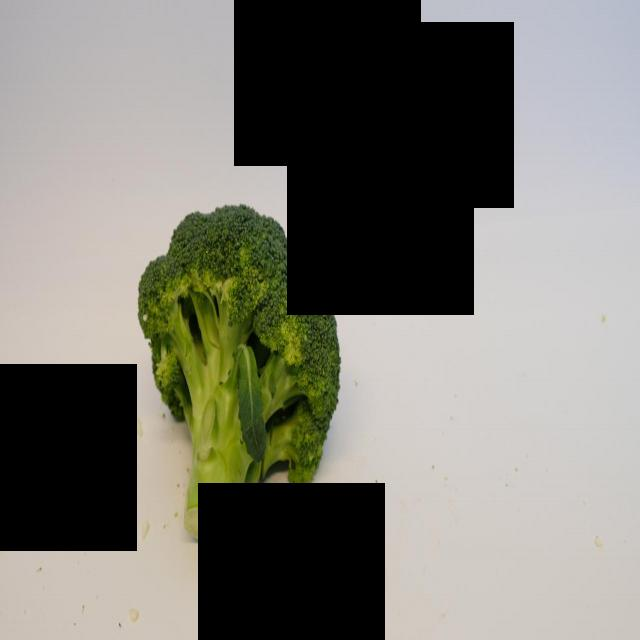broccoli: (144, 190, 337, 548)
